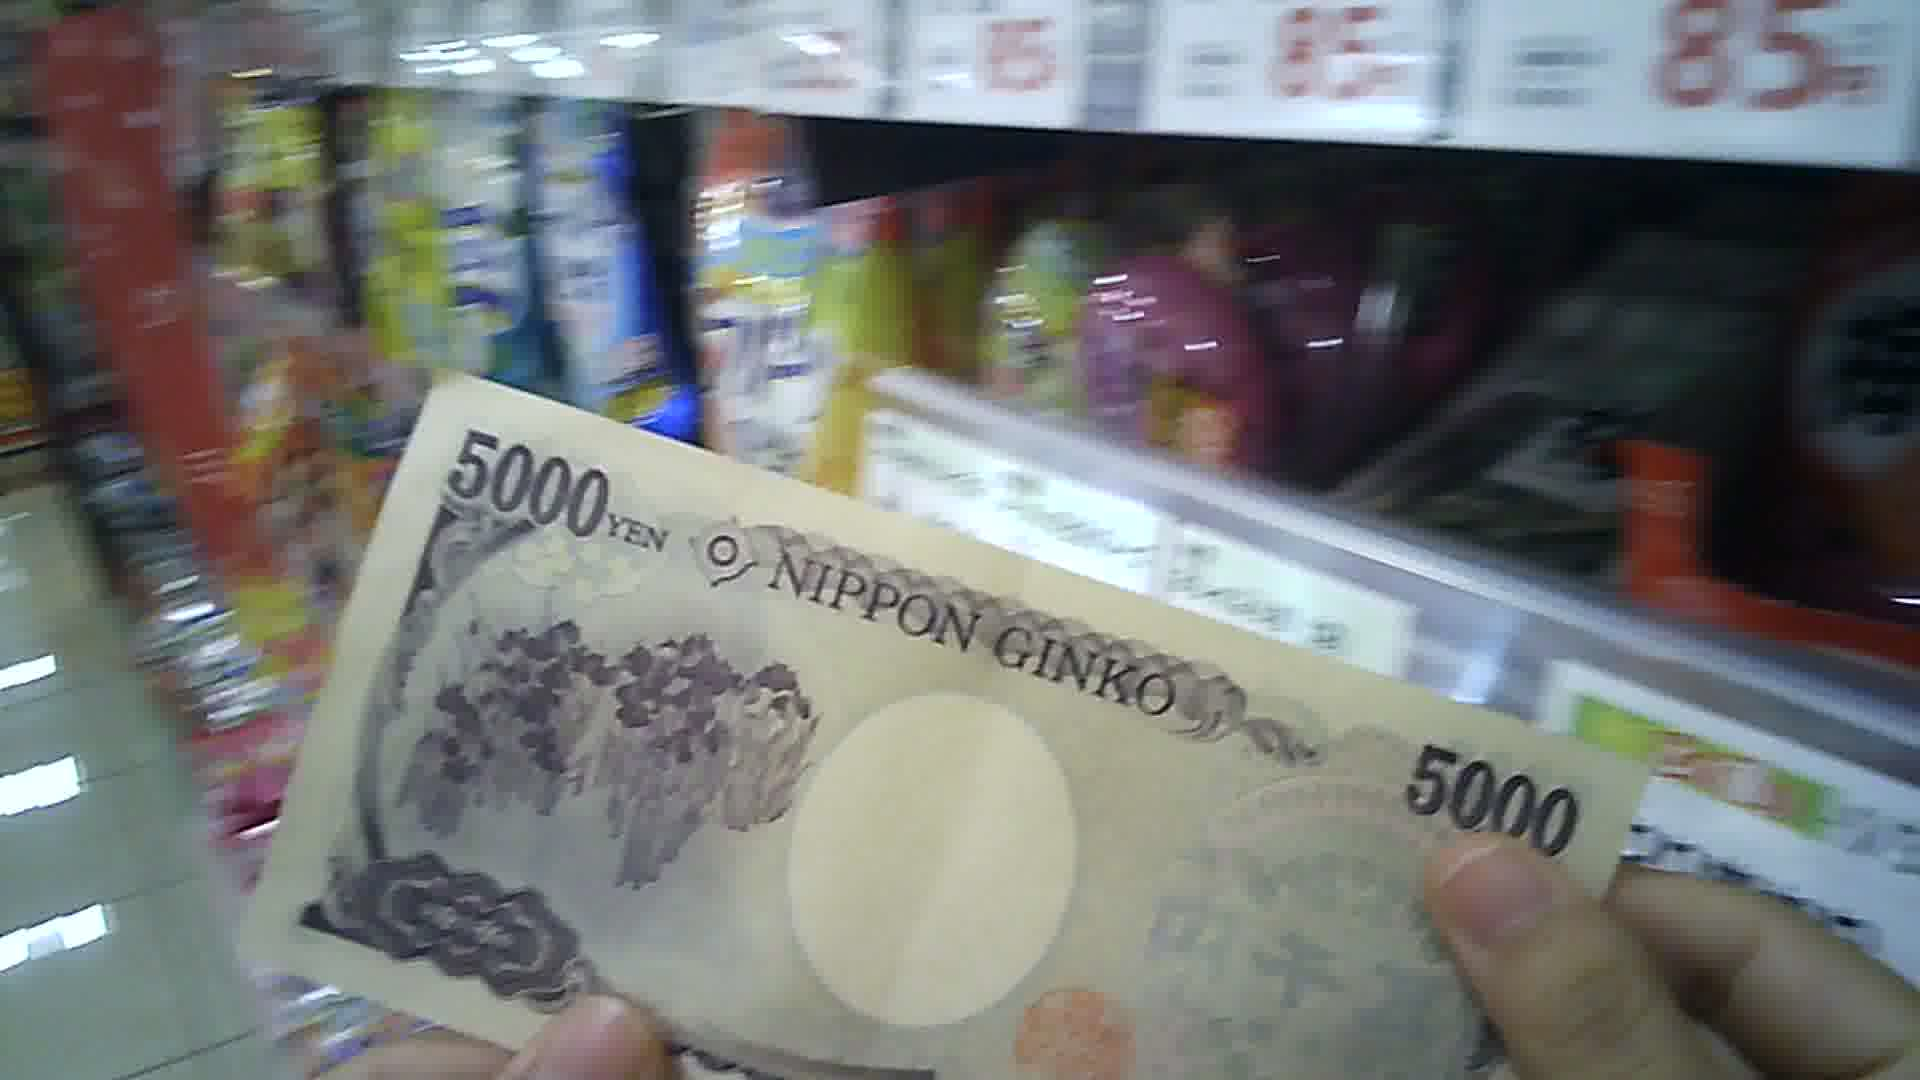5,000 Yen: (243, 345, 1619, 1073)
